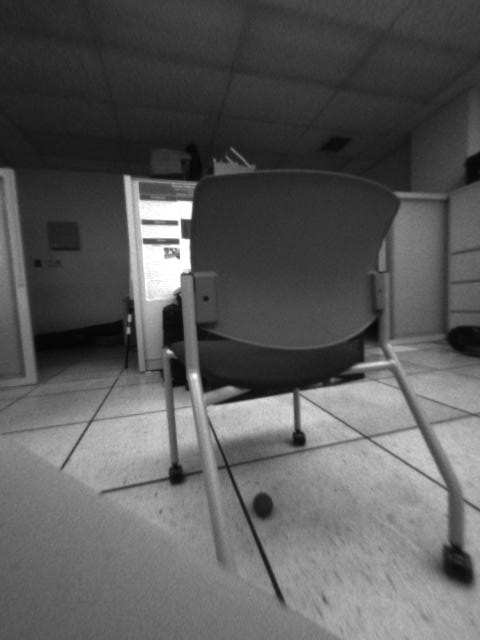dogtoy: (246, 485, 279, 522)
